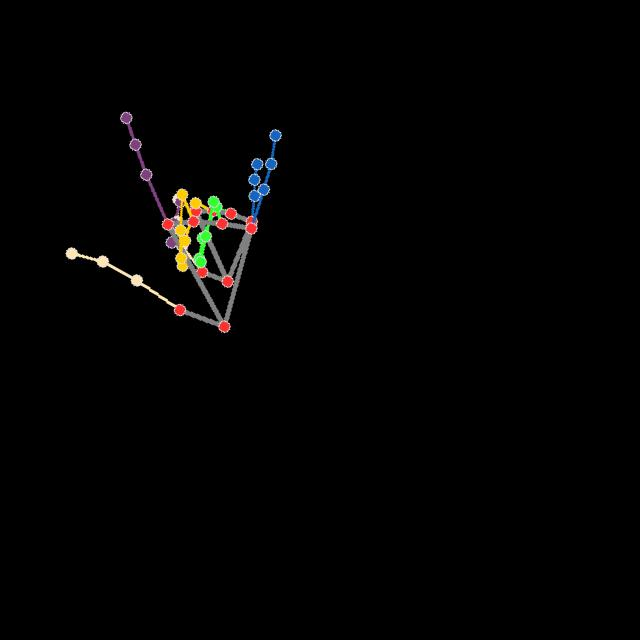spiderman: (62, 109, 283, 335)
